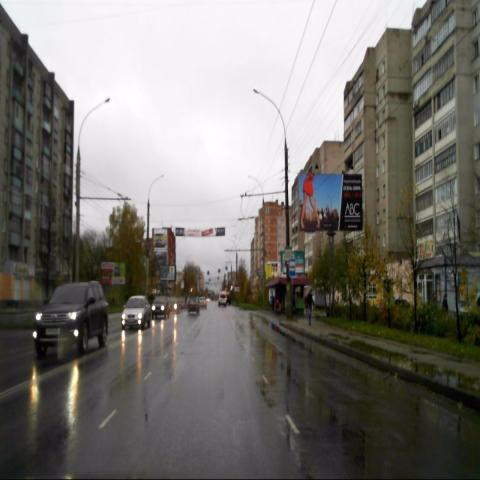5_16: (288, 259, 296, 276)
